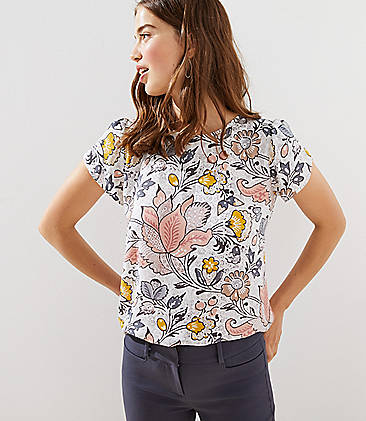C_T-shirt: (88, 115, 314, 345)
